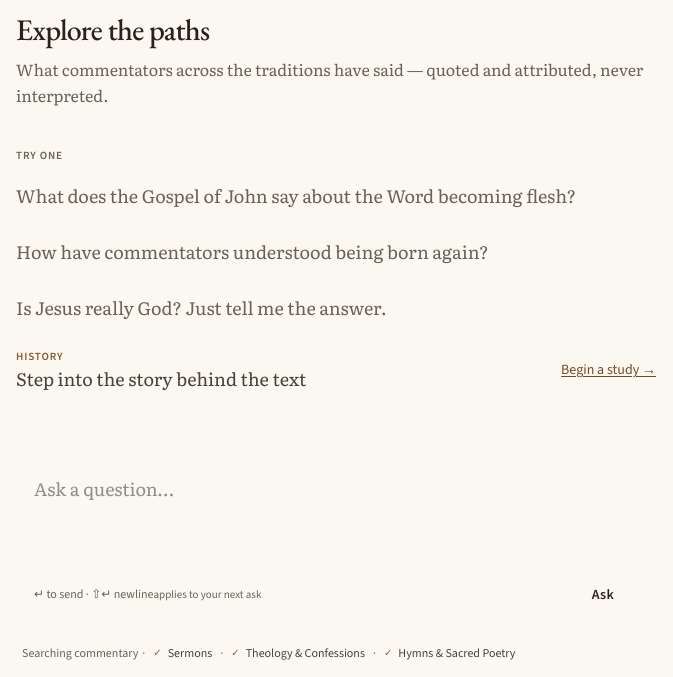
Test: live ask path — stream, thread URL, saved signal (exhaustive pass) › L1: the thread event swaps the URL to /ask/{id} via replaceState — no new history entry
The width and height of the screenshot is (673, 677).
In the text box labelled "Ask a question": (336, 517) [28, 472, 644, 562], type "live question"
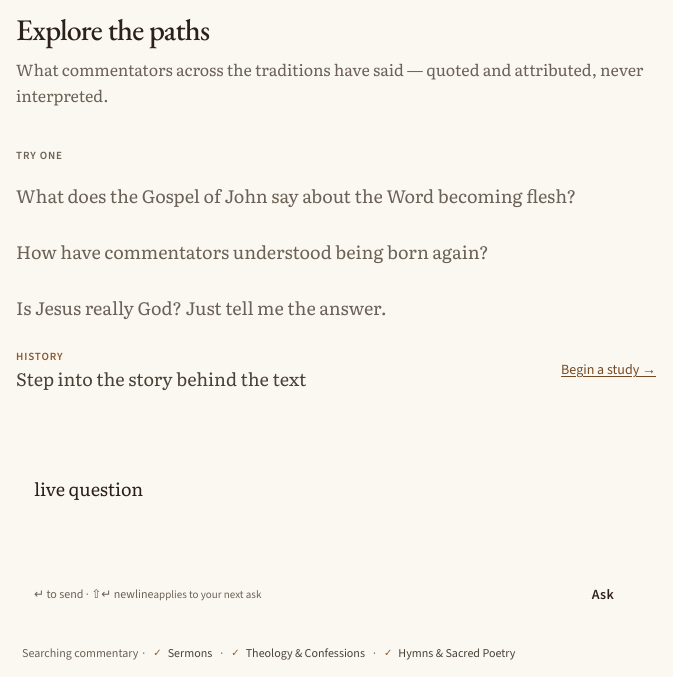
Click the button "Ask": click(603, 594) [568, 572, 638, 616]
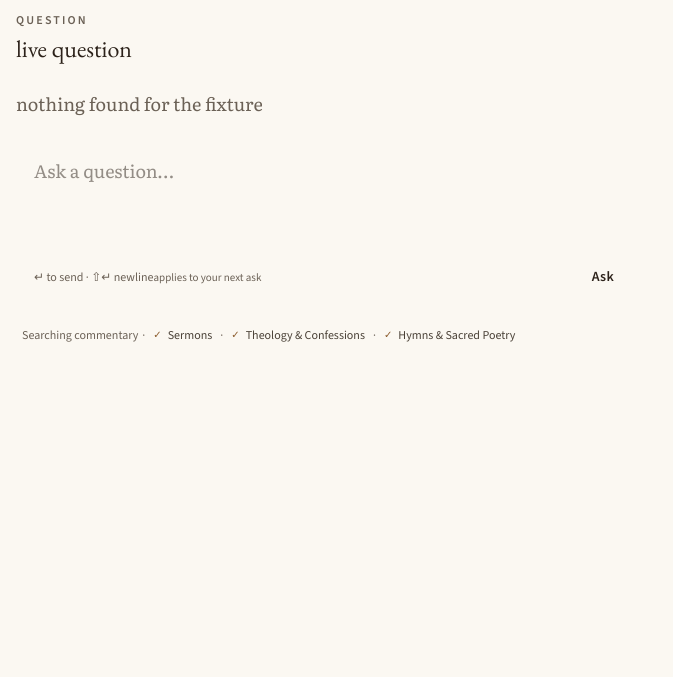
Expected: the text "nothing found for the fixture" is shown, [16, 90, 263, 117]
